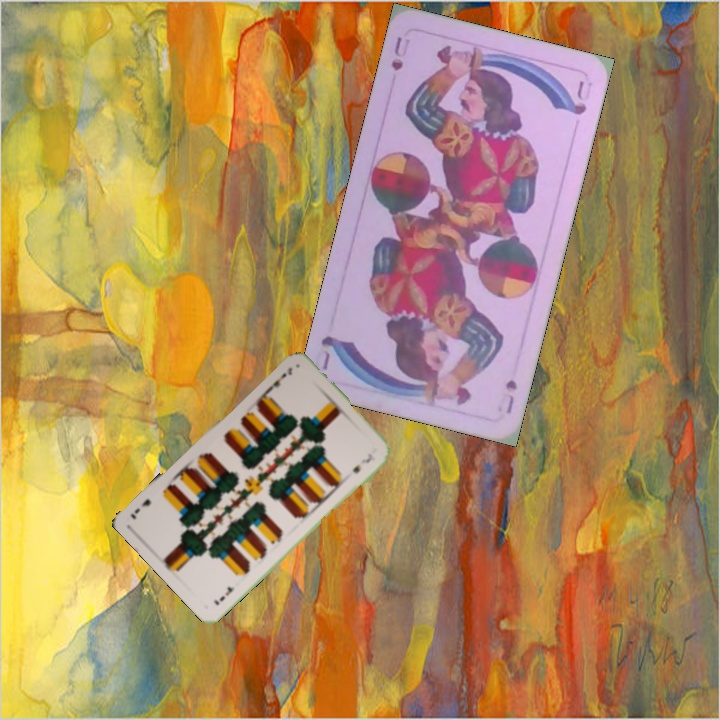E7: (263, 363, 295, 394), (209, 582, 237, 608)
SU: (493, 375, 520, 417), (387, 32, 406, 74)
